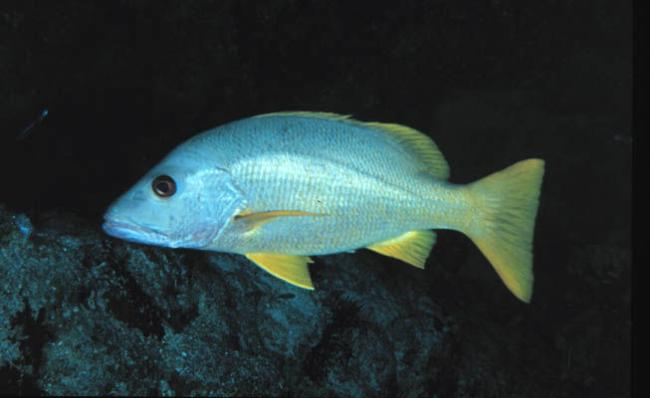fish: (104, 112, 546, 305)
